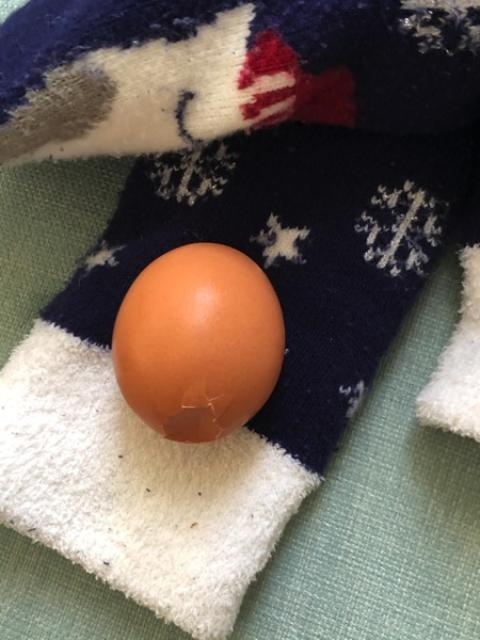Roto: (110, 240, 286, 444)
